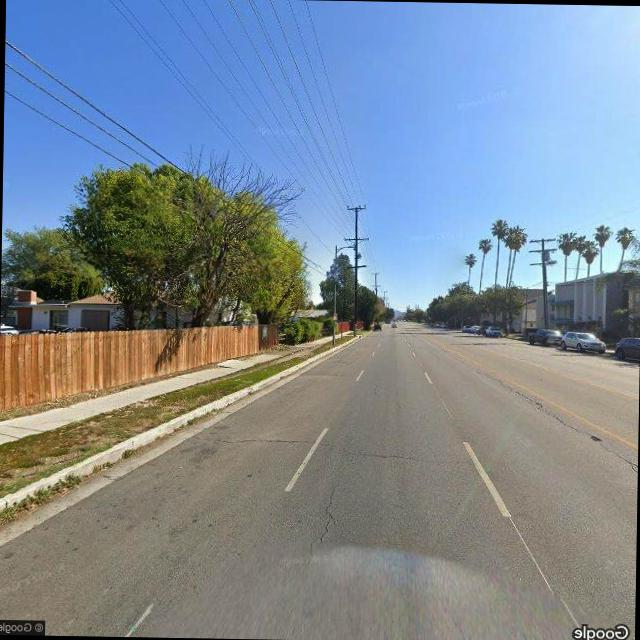crack: (484, 366, 636, 468), (202, 430, 461, 464), (299, 478, 347, 566)
